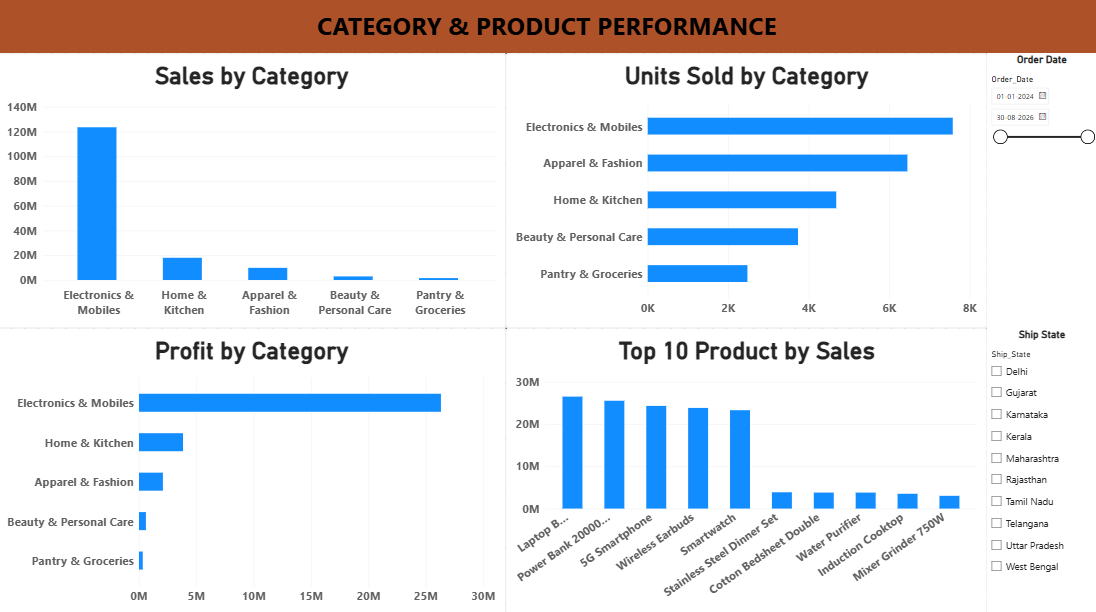

Layout of this report page (visuals, bound fields, positions):
{"tool":"powerbi","page":{"name":"Category & Product Performance","canvas":[1920,1080],"ordinal":1},"visuals":[{"type":"textbox","box":[0,0,1920,96],"z":0},{"type":"clusteredColumnChart","title":"Sales by Category","fields":{"Category":["Sheet1.Category"],"Y":["Sum(Sheet1.Total_Sales_INR)"]},"box":[0,96,888,480],"z":1},{"type":"clusteredBarChart","title":" Profit by Category","fields":{"Category":["Sheet1.Category"],"Y":["Sum(Sheet1.Profit_INR)"]},"box":[0,576,888,504],"z":2},{"type":"clusteredBarChart","title":"Units Sold by Category","fields":{"Category":["Sheet1.Category"],"Y":["Sum(Sheet1.Quantity)"]},"box":[888,96,840,480],"z":3},{"type":"clusteredColumnChart","title":"Top 10 Product by Sales","fields":{"Category":["Sheet1.Product"],"Y":["Sum(Sheet1.Total_Sales_INR)"]},"box":[888,576,840,504],"z":4},{"type":"slicer","title":"Order Date","fields":{"Values":["Sheet1.Order_Date"]},"box":[1728,96,192,480],"z":5},{"type":"slicer","title":"Ship State","fields":{"Values":["Sheet1.Ship_State"]},"box":[1728,576,192,504],"z":6}]}

Visuals, with their boxes in screenshot pixels (x1, y1, x2, y2), scaled from the page's 1920x1080 canvas onto the 1096x612 screenshot:
textbox: 0/0/1095/54
"Sales by Category" clusteredColumnChart: 0/54/507/326
" Profit by Category" clusteredBarChart: 0/326/507/611
"Units Sold by Category" clusteredBarChart: 507/54/986/326
"Top 10 Product by Sales" clusteredColumnChart: 507/326/986/611
"Order Date" slicer: 986/54/1095/326
"Ship State" slicer: 986/326/1095/611
